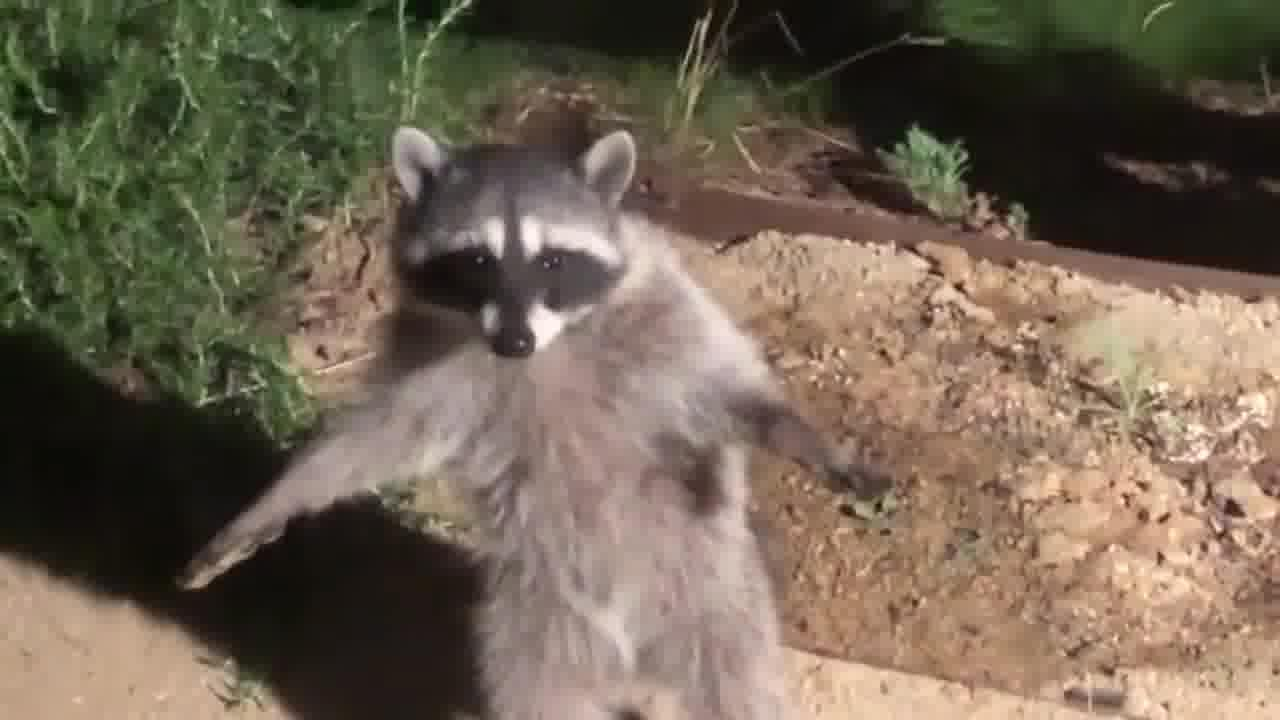raccoon: (185, 120, 890, 720)
